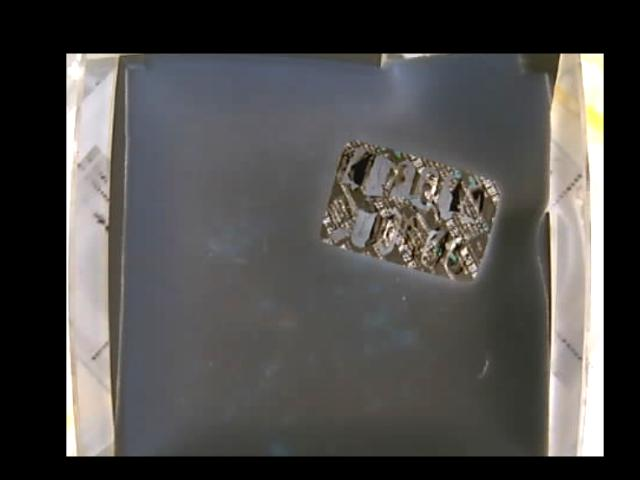Medicine: (319, 140, 500, 281)
